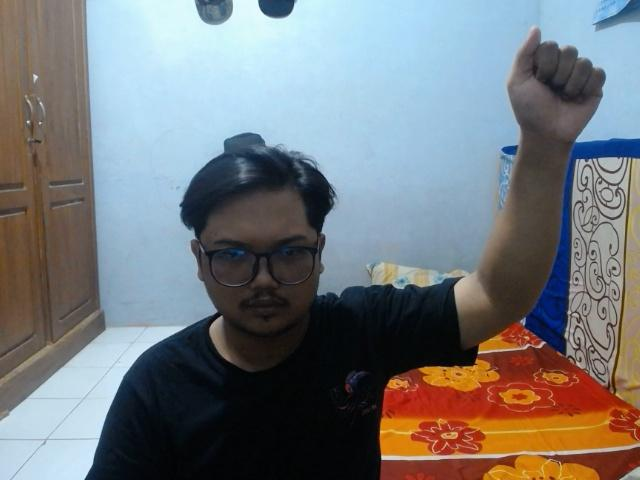Grab: (506, 21, 611, 147)
